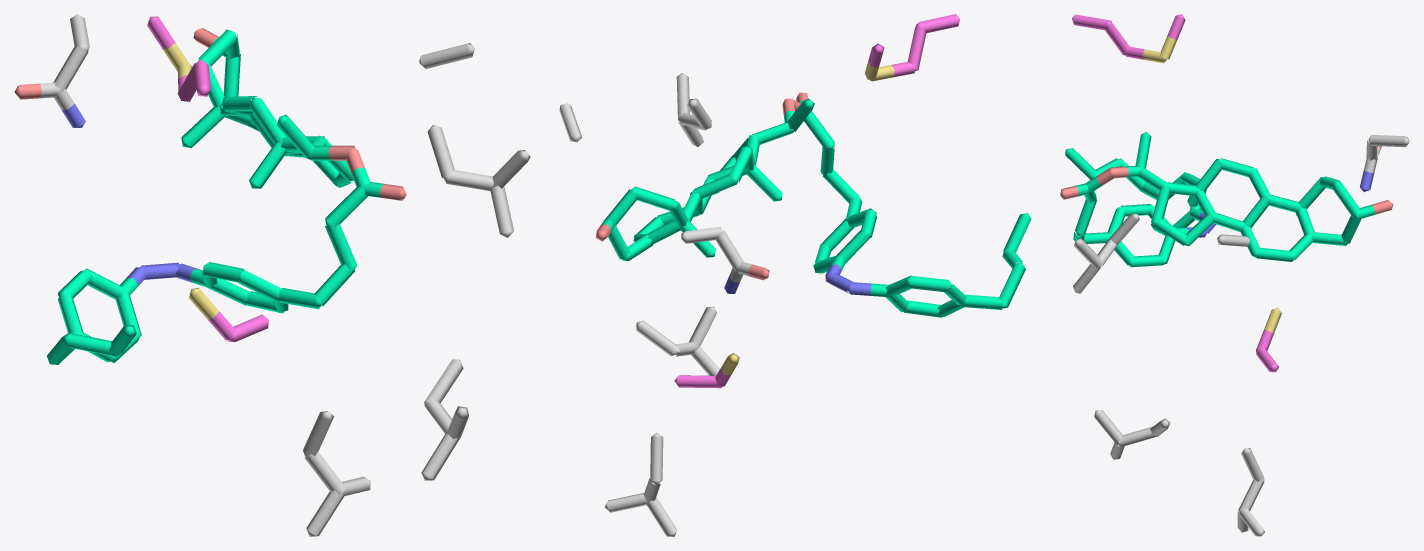
File: OptoChol.gltf
The picture shows the model from 3 angles, left to right: view 1: azimuth 30°, elevation 25°; view 2: azimuth 150°, elevation 25°; view 3: azimuth 270°, elevation 25°; orthographic projection. The views are drawn at different scales.
Parts seen in each view (by area): view 1: node-geom74, node-geom68, node-geom78, node-geom73, node-geom45, node-geom33, node-geom77, node-geom32, node-geom80, node-geom56, node-geom54, node-geom66 (+12 smaller); view 2: node-geom66, node-geom70, node-geom2, node-geom33; view 3: node-geom79, node-geom47, node-geom72, node-geom57, node-geom27, node-geom55, node-geom40.
Part boxes in pixels (bbox=[...]): node-geom74: bbox=[419, 43, 474, 68]; node-geom68: bbox=[306, 490, 344, 536]; node-geom78: bbox=[427, 125, 454, 177]; node-geom73: bbox=[421, 434, 459, 480]; node-geom45: bbox=[181, 106, 225, 148]; node-geom33: bbox=[249, 141, 286, 188]; node-geom77: bbox=[490, 186, 513, 237]; node-geom32: bbox=[249, 97, 286, 144]; node-geom80: bbox=[53, 46, 88, 93]; node-geom56: bbox=[314, 264, 355, 306]; node-geom54: bbox=[325, 187, 368, 227]; node-geom66: bbox=[303, 411, 333, 457]; node-geom66: bbox=[650, 432, 663, 484]; node-geom70: bbox=[636, 320, 678, 356]; node-geom2: bbox=[999, 262, 1025, 308]; node-geom33: bbox=[746, 165, 782, 201]; node-geom79: bbox=[1368, 135, 1409, 147]; node-geom47: bbox=[1256, 247, 1295, 261]; node-geom72: bbox=[1094, 410, 1122, 444]; node-geom57: bbox=[1072, 14, 1112, 30]; node-geom27: bbox=[1065, 148, 1096, 179]; node-geom55: bbox=[1075, 199, 1096, 236]; node-geom40: bbox=[1151, 186, 1170, 225].
Size of the model in its own units: 17.56 by 20.95 by 14.97.
